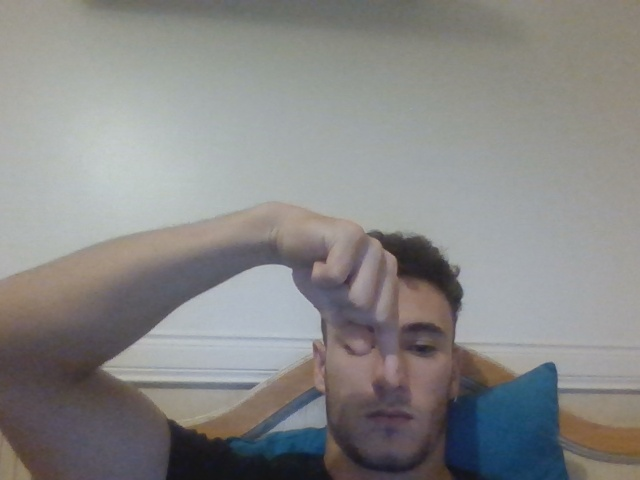Down: (291, 206, 401, 387)
